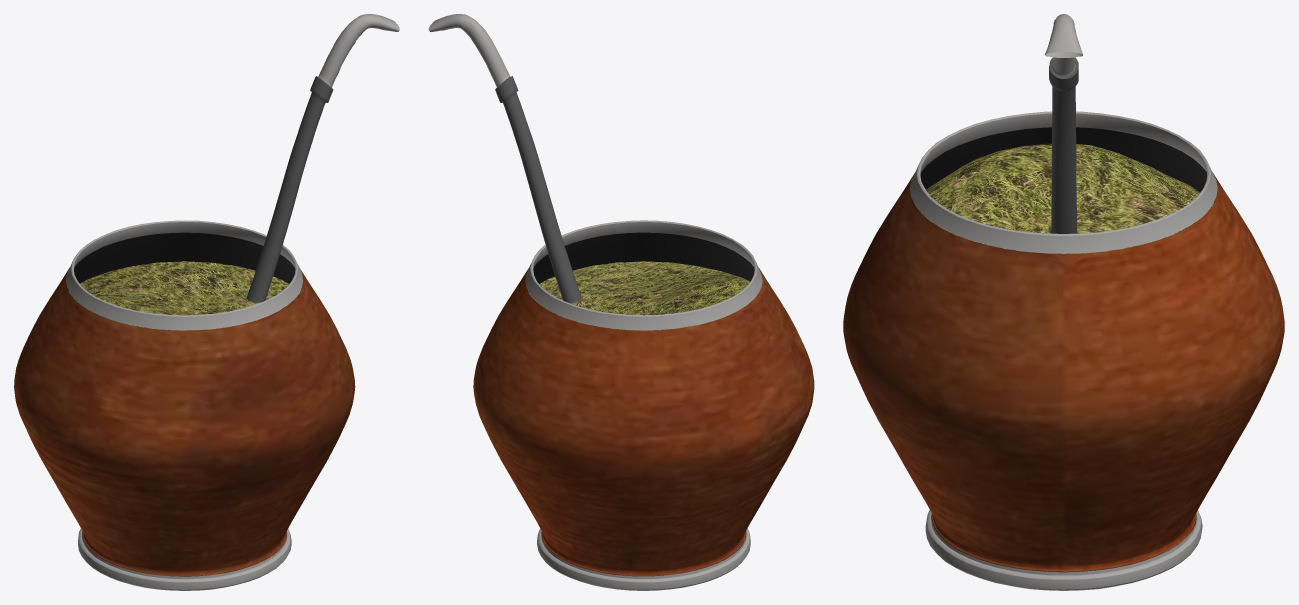
File: mateUruguasho2-transformed.glb
3 renders of one model, left to right at view 1: azimuth 30°, elevation 25°; view 2: azimuth 150°, elevation 25°; view 3: azimuth 270°, elevation 25°, orthographic. The views are drawn at different scales.
Visible parts, largest first — view 1: Object_4, Object_6, Object_8, Object_5, Object_11; view 2: Object_4, Object_6, Object_8, Object_5, Object_11; view 3: Object_4, Object_6, Object_8, Object_5, Object_11.
Part boxes in pixels (x1,y1,x2,y2): Object_4: (14,232,355,576); Object_6: (65,14,399,590); Object_8: (69,261,297,330); Object_5: (67,232,303,576); Object_11: (246,76,333,302); Object_4: (473,232,814,576); Object_6: (428,14,762,590); Object_8: (528,261,759,330); Object_5: (525,232,754,576); Object_11: (495,76,581,303); Object_4: (843,128,1284,571); Object_6: (910,14,1217,590); Object_8: (916,143,1213,253); Object_5: (920,127,1217,572); Object_11: (1049,58,1078,253).
Size of the model in its own units: 2.05 by 2.69 by 1.7.
Materials: 5 (2 with a texture image).
